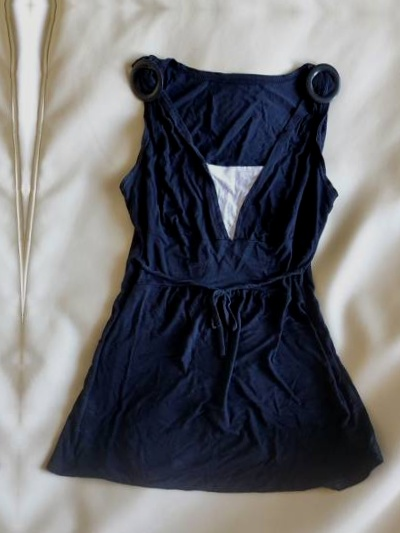Dress: (54, 59, 387, 533)
